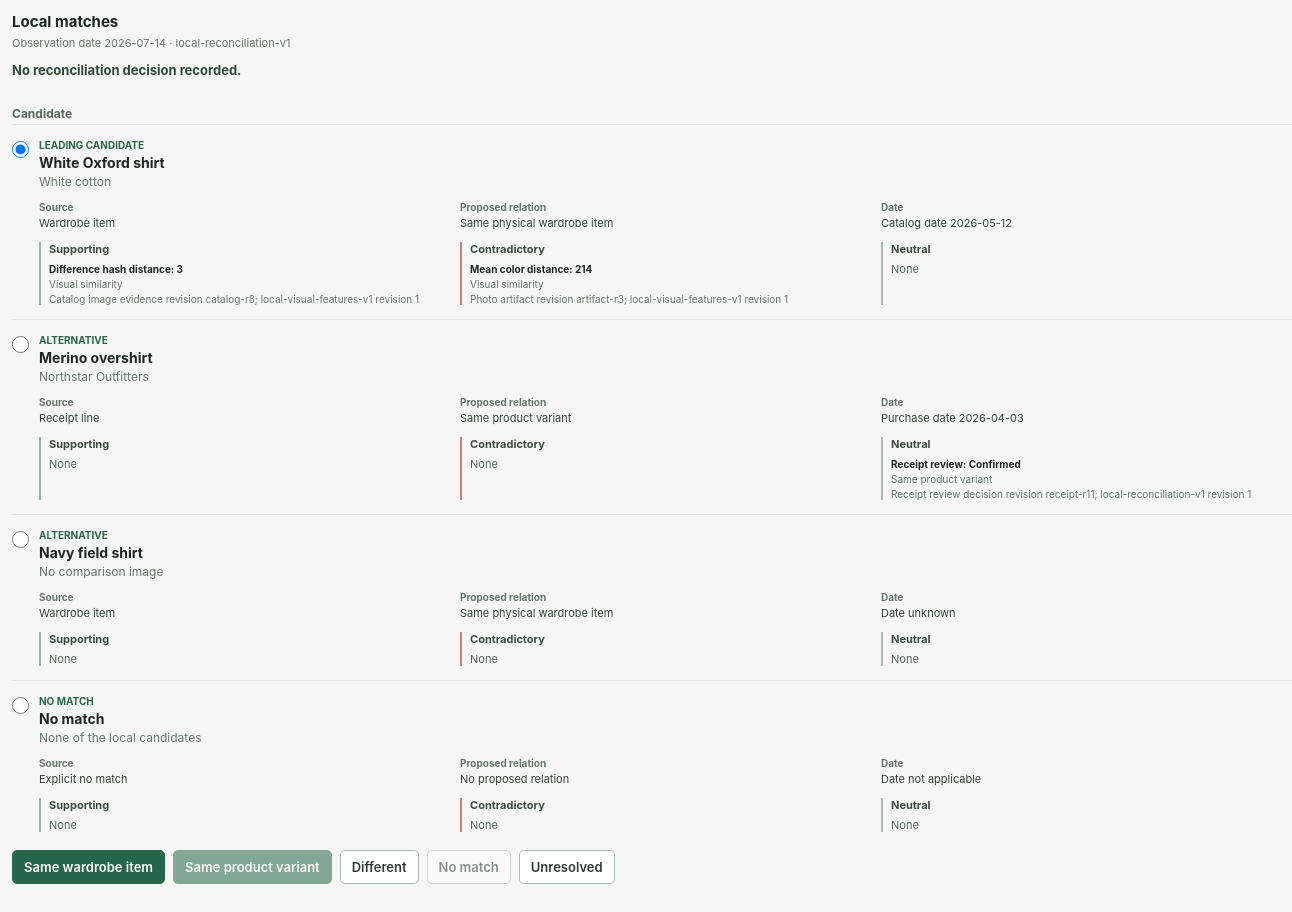
reconciliation panel › preserves the selected candidate when a decision conflicts
Step 1. Click the radio button labelled "Alternative Merino overshirt Northstar Outfitters" → point(20, 344), box [12,336,29,353]
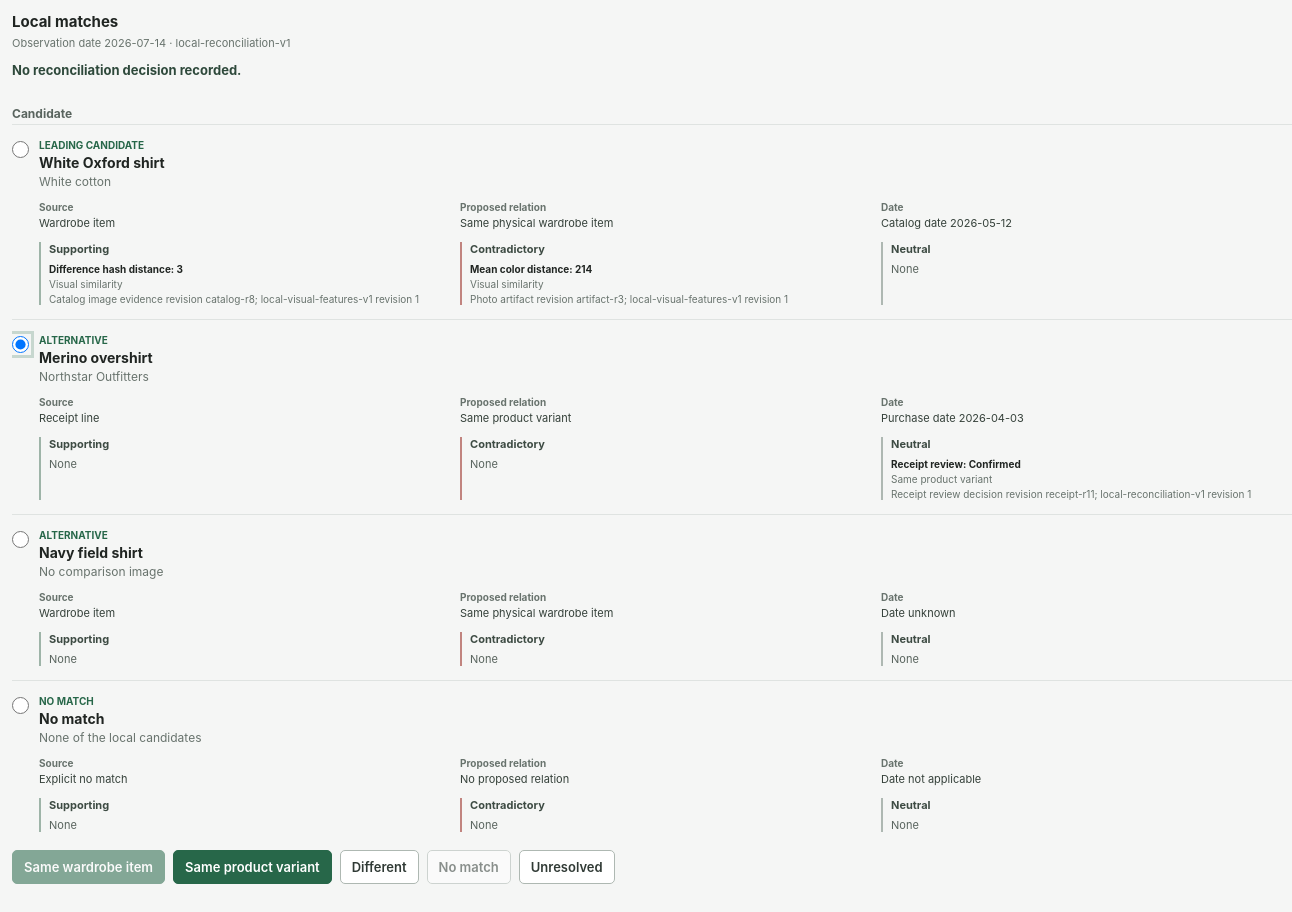
Step 2. Click the button "Different" → point(379, 867), box [340,850,418,884]
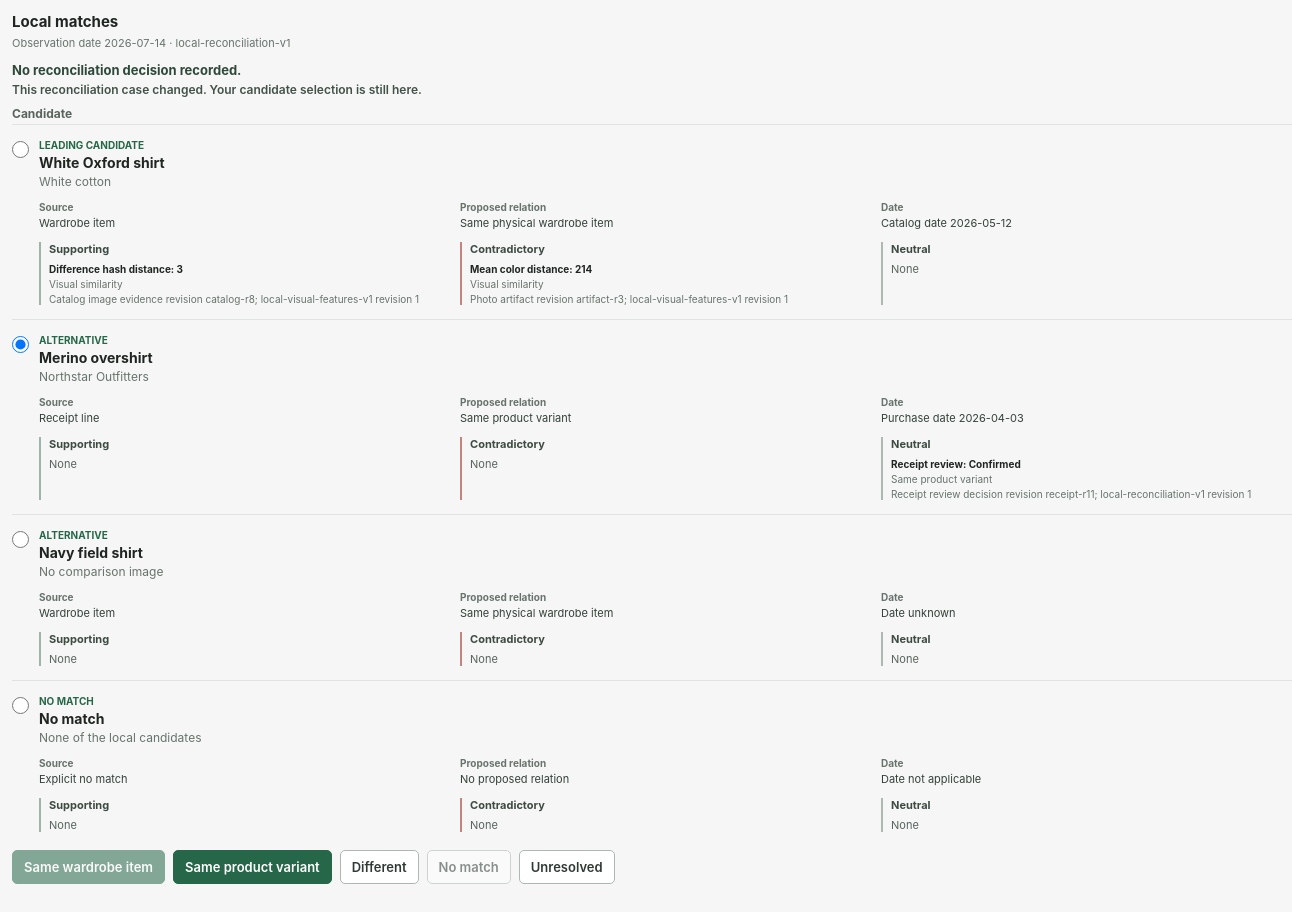
Now the radio button labelled "Alternative Merino overshirt Northstar Outfitters" is checked, box [12,336,29,353]
Now the text "This reconciliation case changed. Your candidate selection is still here." is shown, box [12,82,422,97]
